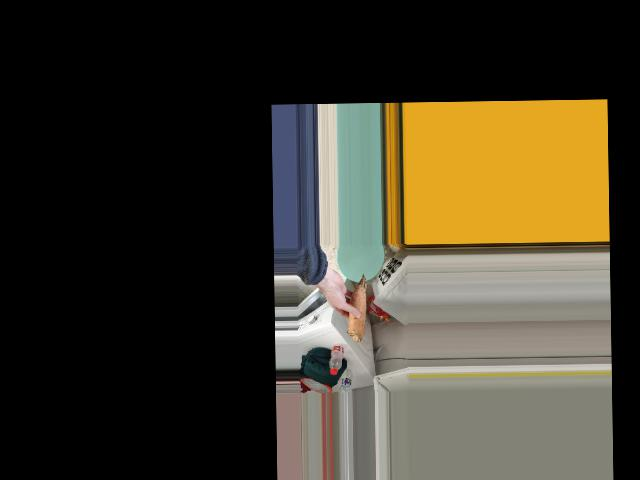sweet_potato: (346, 277, 366, 341)
